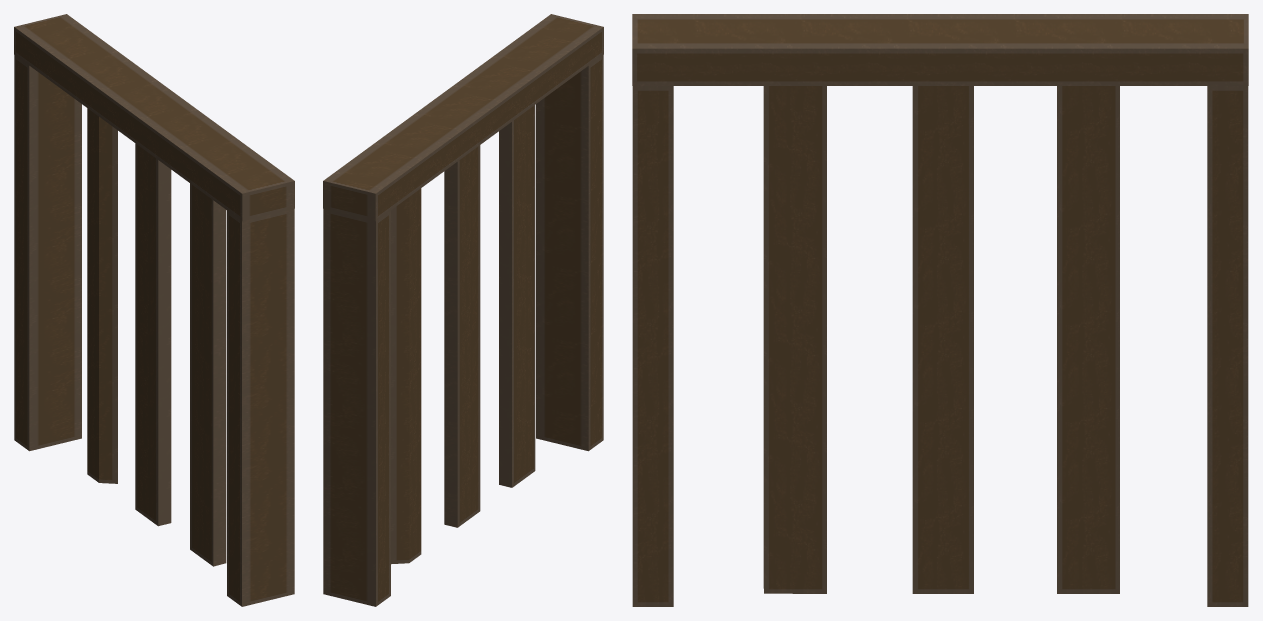
File: HalfRailing.fbx
The picture shows the model from 3 angles, left to right: view 1: azimuth 30°, elevation 25°; view 2: azimuth 150°, elevation 25°; view 3: azimuth 270°, elevation 25°; orthographic projection. The views are drawn at different scales.
Parts seen in each view (by area): view 1: HalfRailing; view 2: HalfRailing; view 3: HalfRailing.
Boxes of the visible parts, x1,y1,x2,y2 form: HalfRailing: [14, 14, 294, 606]; HalfRailing: [323, 14, 603, 606]; HalfRailing: [632, 14, 1248, 606].
Size of the model in its own units: 21.09 by 158 by 158.
